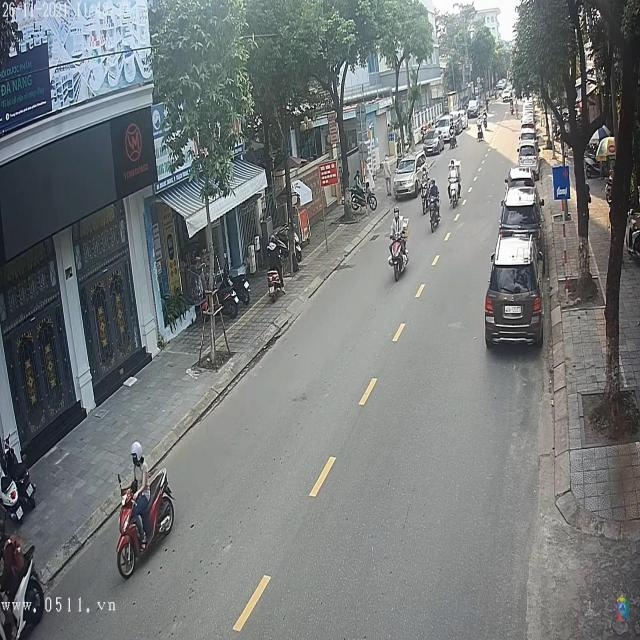car: (486, 239, 542, 348), (500, 186, 541, 237), (392, 158, 425, 200), (424, 128, 448, 156)
motorcycle: (112, 470, 178, 575), (389, 238, 410, 280), (428, 188, 441, 232), (449, 169, 462, 209)
